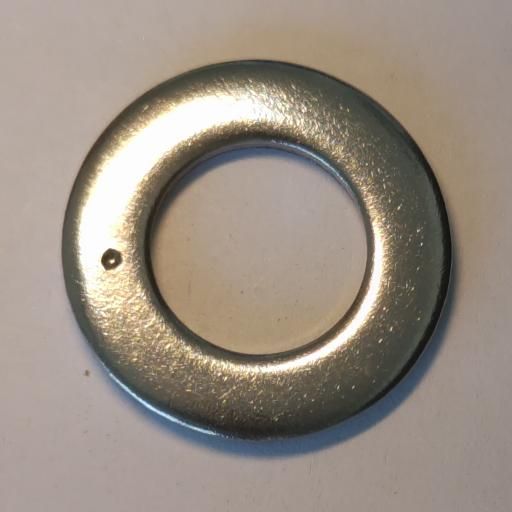circular_cavity: (101, 248, 123, 270)
